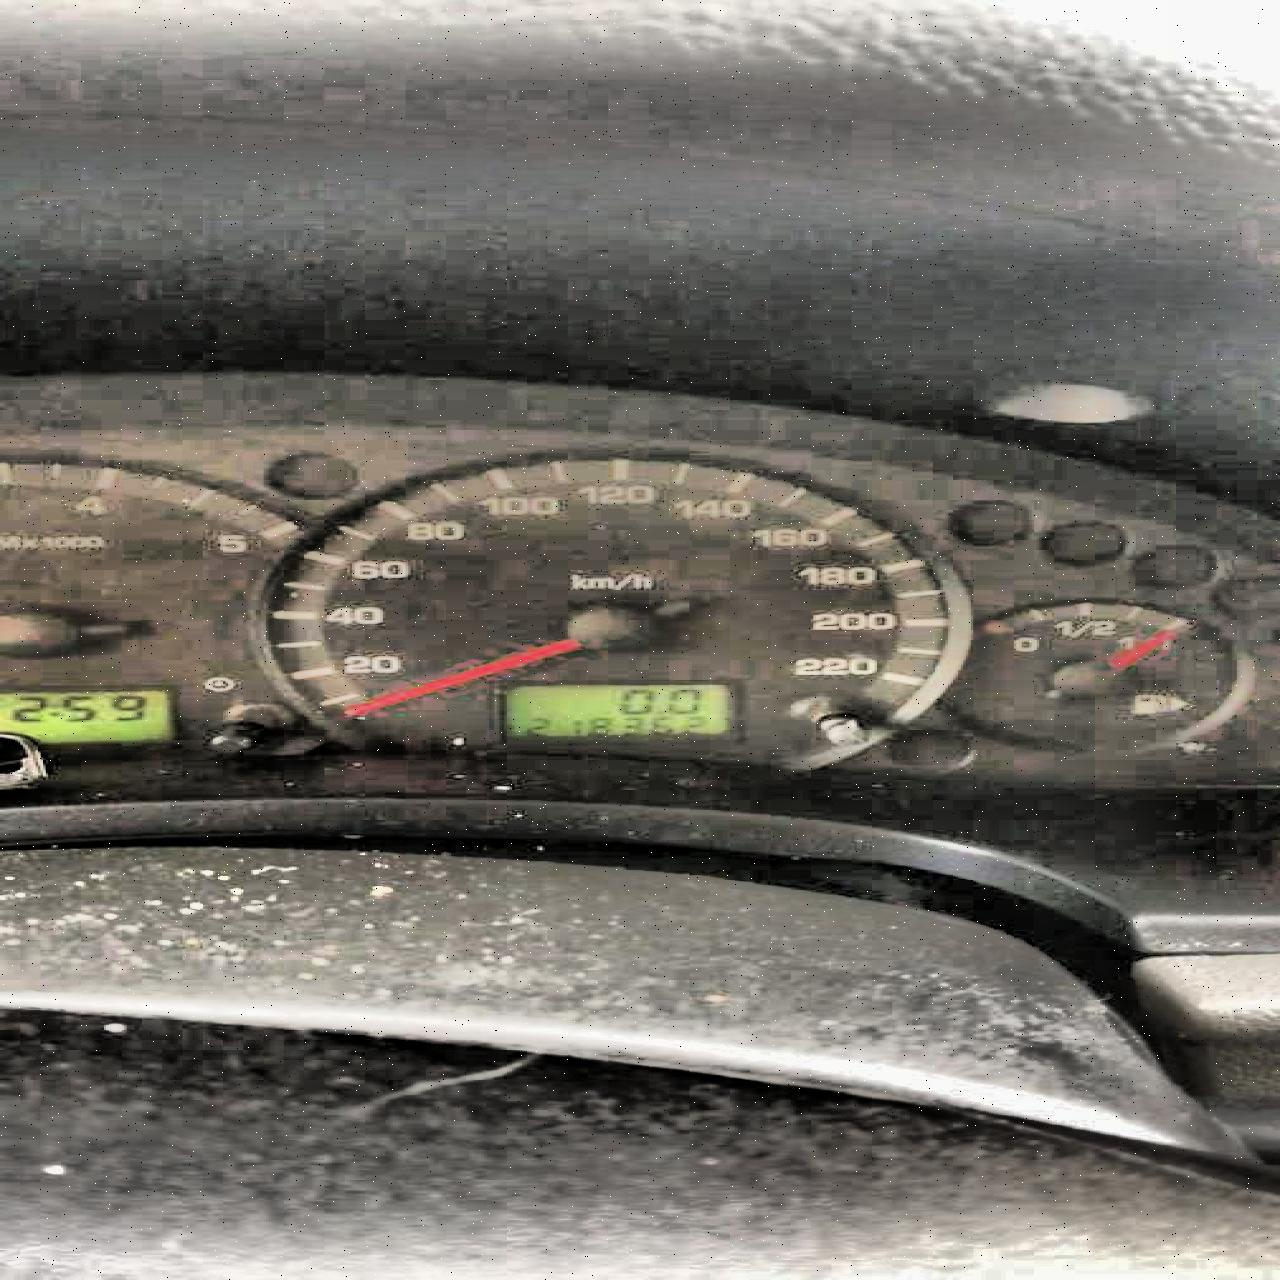-: (652, 708, 663, 714)
0: (615, 688, 652, 714), (667, 688, 697, 713)
1: (568, 716, 583, 736)
2: (519, 715, 552, 736), (682, 715, 707, 735)
3: (619, 715, 641, 735)
6: (649, 715, 678, 736)
8: (586, 716, 613, 735)
odometer: (486, 679, 745, 740)
